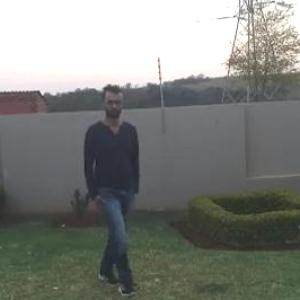follow: (75, 84, 142, 292)
